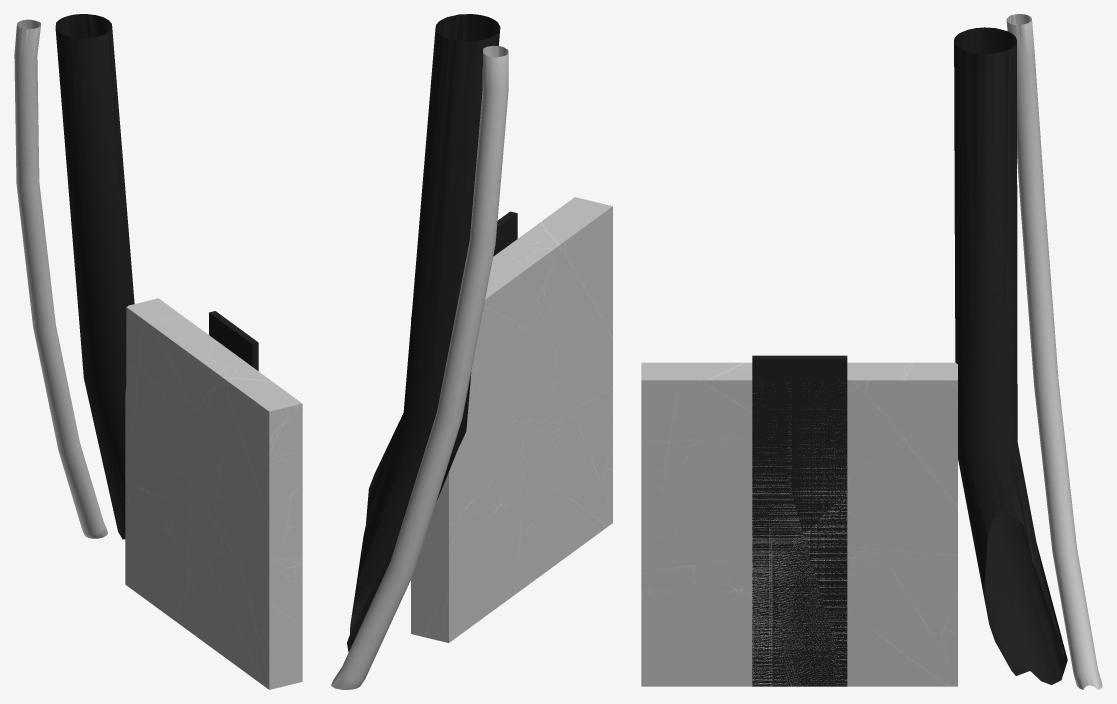
The model's file is TightenerStation_Cube19.glb.
3 renders of one model, left to right at view 1: azimuth 30°, elevation 25°; view 2: azimuth 150°, elevation 25°; view 3: azimuth 270°, elevation 25°, orthographic. The views are drawn at different scales.
Parts seen in each view (by area): view 1: color-2.021; view 2: color-2.021; view 3: color-2.021.
Part boxes in pixels (x1=…): color-2.021: x1=14, y1=14, x2=302, y2=689; color-2.021: x1=331, y1=14, x2=612, y2=689; color-2.021: x1=641, y1=14, x2=1102, y2=689.
Bounding box in the file's own units: 0.0722 × 0.32 × 0.2184.
3 materials, 3 textured.
